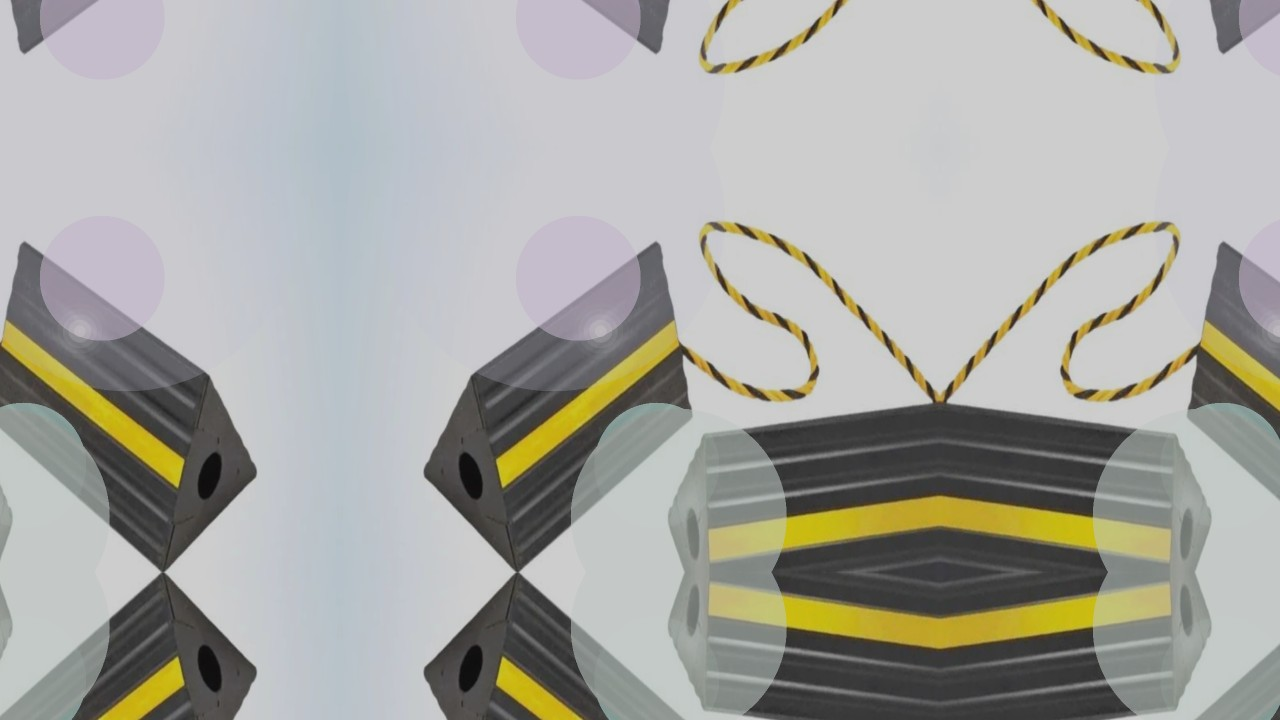chock: (392, 166, 730, 573), (0, 166, 288, 573), (642, 306, 940, 573), (940, 306, 1238, 573), (1150, 166, 1280, 573), (392, 572, 730, 720), (642, 572, 940, 720), (940, 572, 1238, 720), (392, 0, 730, 129), (0, 572, 288, 720), (0, 0, 288, 129), (1150, 572, 1280, 720), (1150, 0, 1280, 129), (0, 306, 38, 573)
